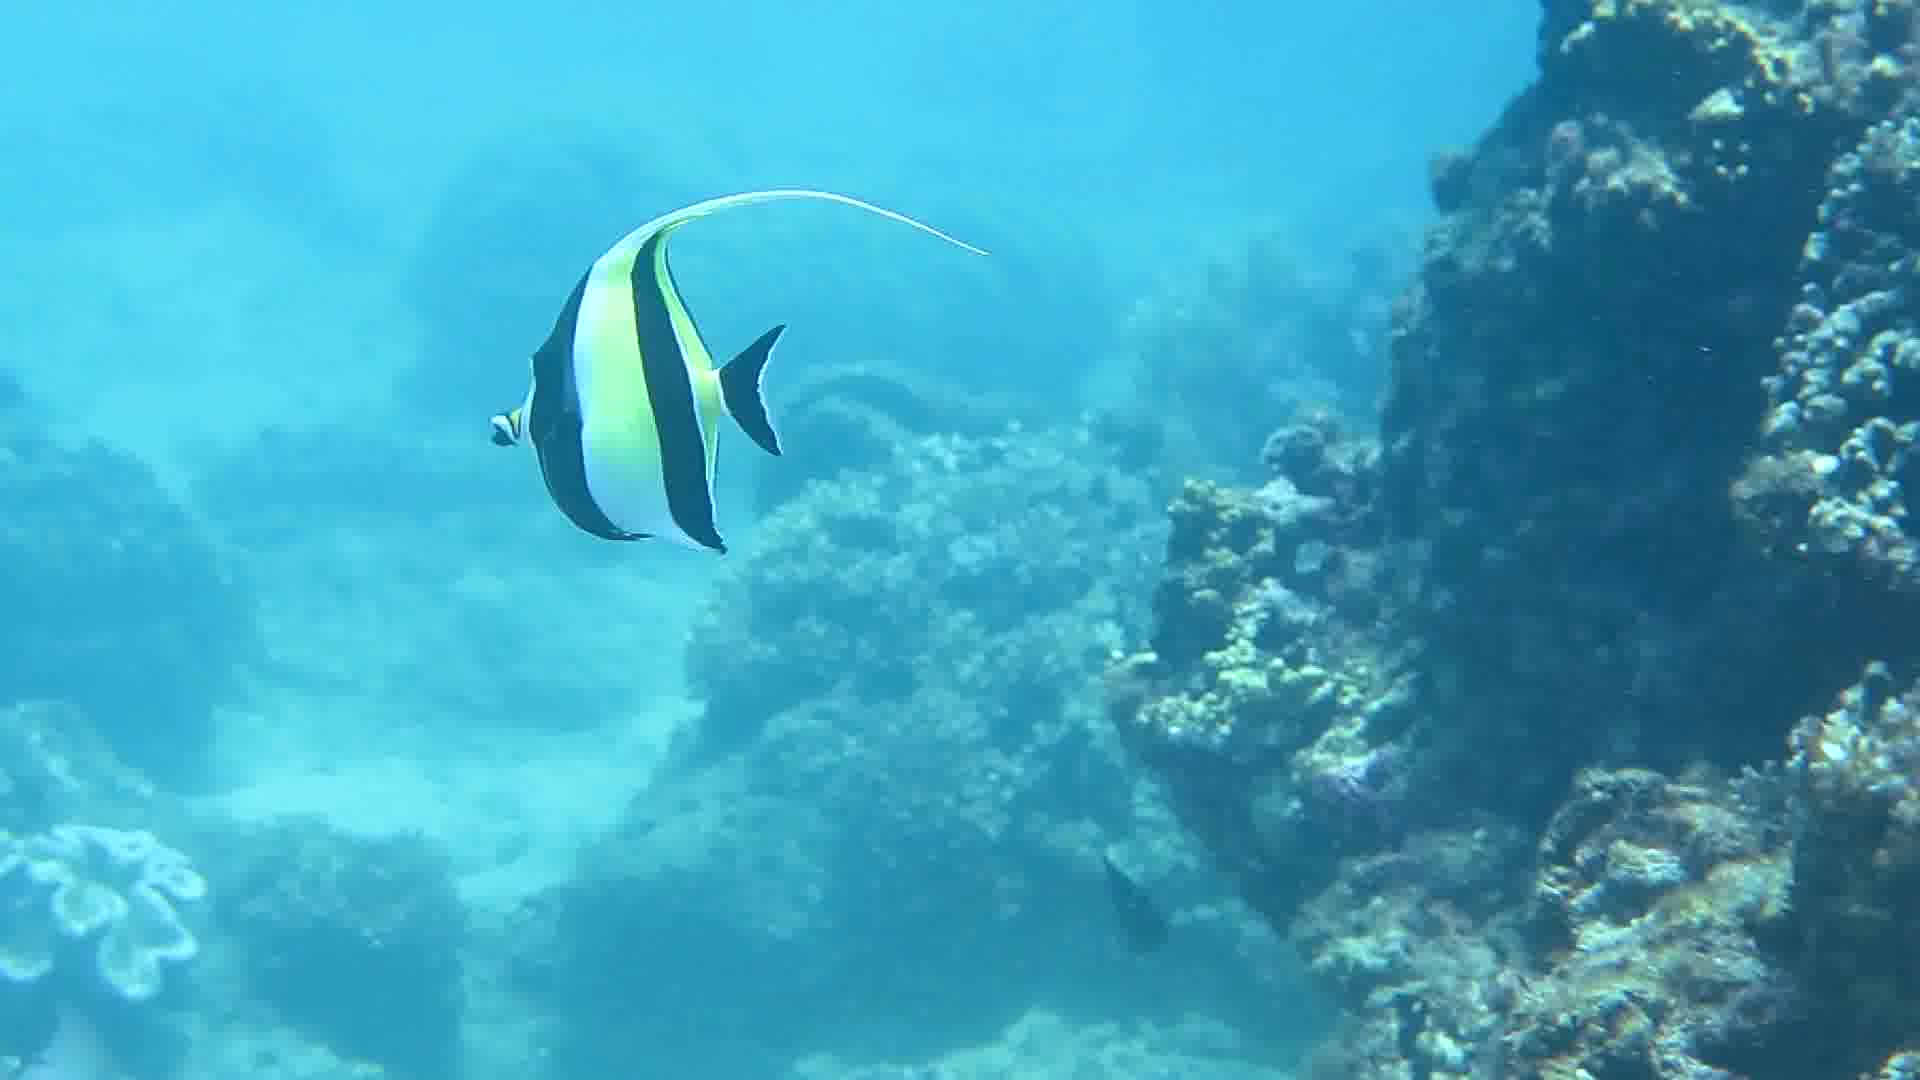Zanclus cornutus: (480, 175, 837, 595)
